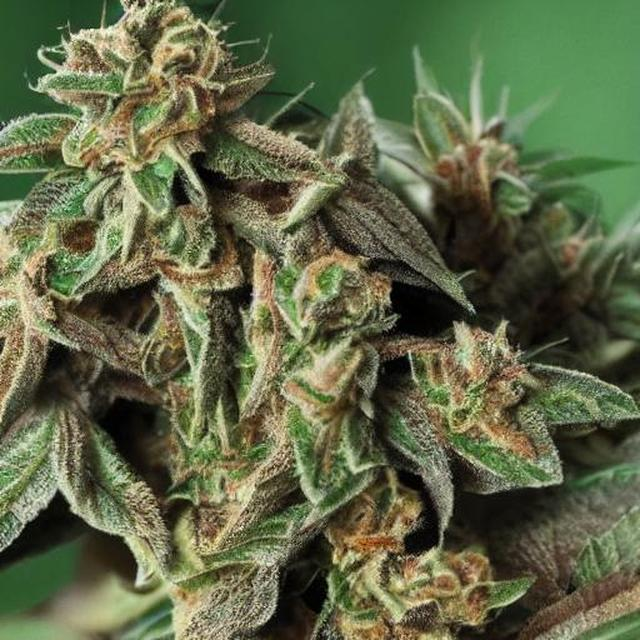Marijuana Joint: (1, 1, 585, 588)
